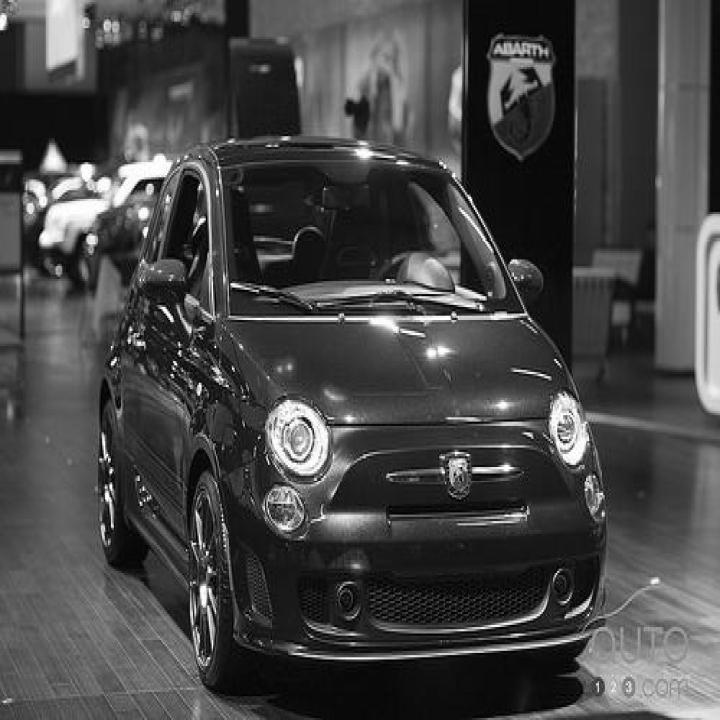car: (95, 132, 608, 694)
